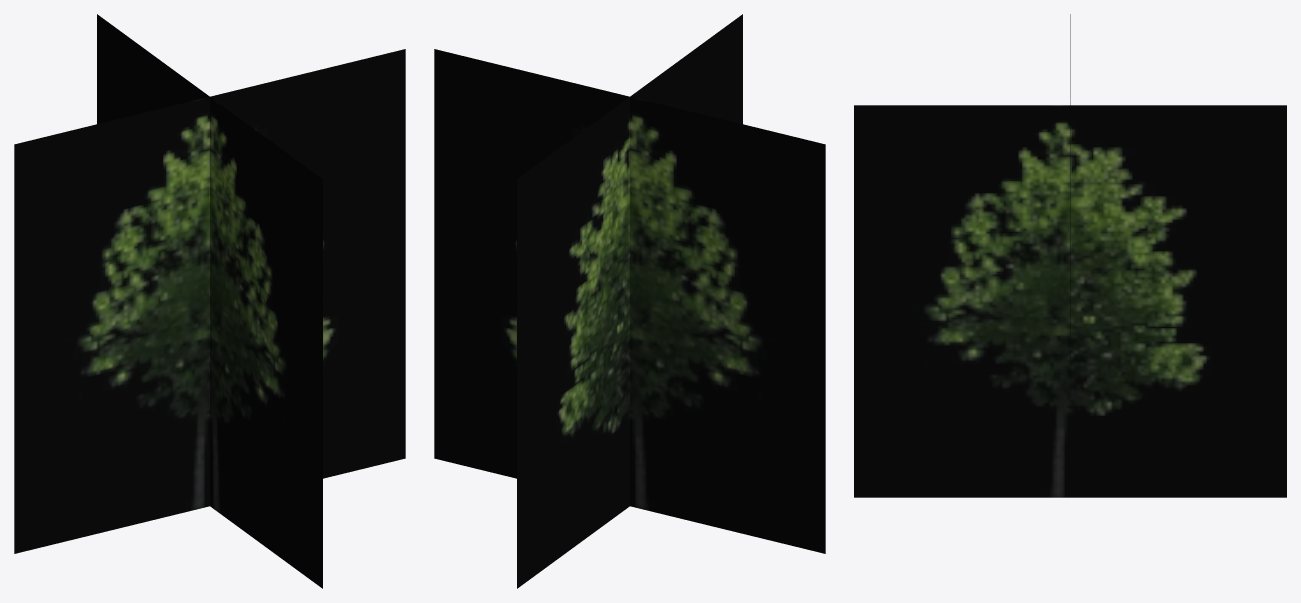
The model's file is LowPoly_Tomedelic_Tree_01.fbx.
The picture shows the model from 3 angles, left to right: view 1: azimuth 30°, elevation 25°; view 2: azimuth 150°, elevation 25°; view 3: azimuth 270°, elevation 25°; orthographic projection. The views are drawn at different scales.
Parts seen in each view (by area): view 1: Plane; view 2: Plane; view 3: Plane.
Boxes of the visible parts, bbox=[...] form: Plane: bbox=[14, 14, 405, 588]; Plane: bbox=[434, 14, 825, 588]; Plane: bbox=[854, 14, 1286, 497].
Bounding box in the file's own units: 200 × 200 × 200.
